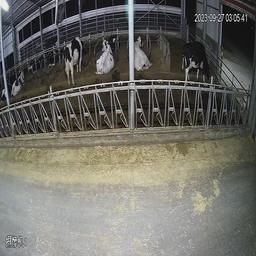cow: (177, 34, 216, 89), (58, 32, 87, 92), (93, 31, 121, 81), (134, 32, 157, 73), (9, 63, 32, 98), (40, 43, 60, 66)
